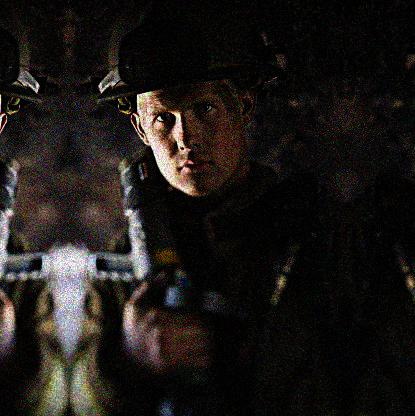helmet: (92, 3, 290, 198)
